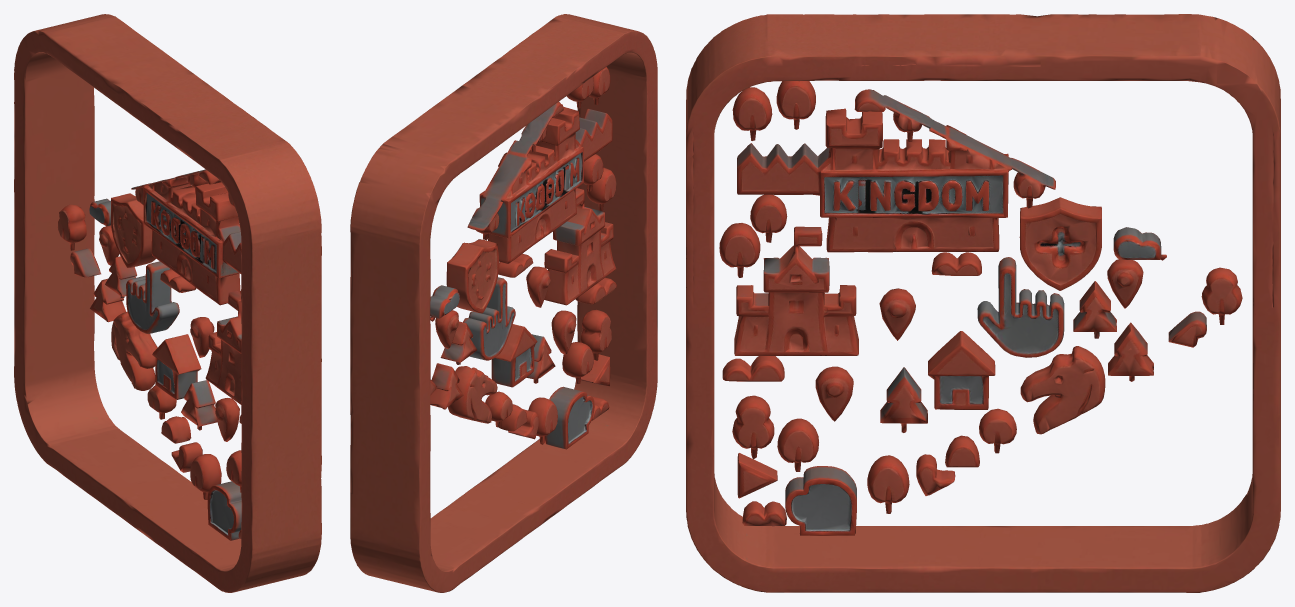
The model's file is youtubekngdm.glb.
The picture shows the model from 3 angles, left to right: view 1: azimuth 30°, elevation 25°; view 2: azimuth 150°, elevation 25°; view 3: azimuth 270°, elevation 25°; orthographic projection. The views are drawn at different scales.
Visible parts, largest first — view 1: tripo_node_224fb1a4-906d-4fb3-9f0d-28163f6623f3; view 2: tripo_node_224fb1a4-906d-4fb3-9f0d-28163f6623f3; view 3: tripo_node_224fb1a4-906d-4fb3-9f0d-28163f6623f3.
Boxes of the visible parts, bbox=[...] form: tripo_node_224fb1a4-906d-4fb3-9f0d-28163f6623f3: bbox=[14, 14, 321, 592]; tripo_node_224fb1a4-906d-4fb3-9f0d-28163f6623f3: bbox=[350, 14, 657, 592]; tripo_node_224fb1a4-906d-4fb3-9f0d-28163f6623f3: bbox=[686, 14, 1280, 592].
Size of the model in its own units: 0.167 by 0.9782 by 0.9811.
1 material, 1 textured.
